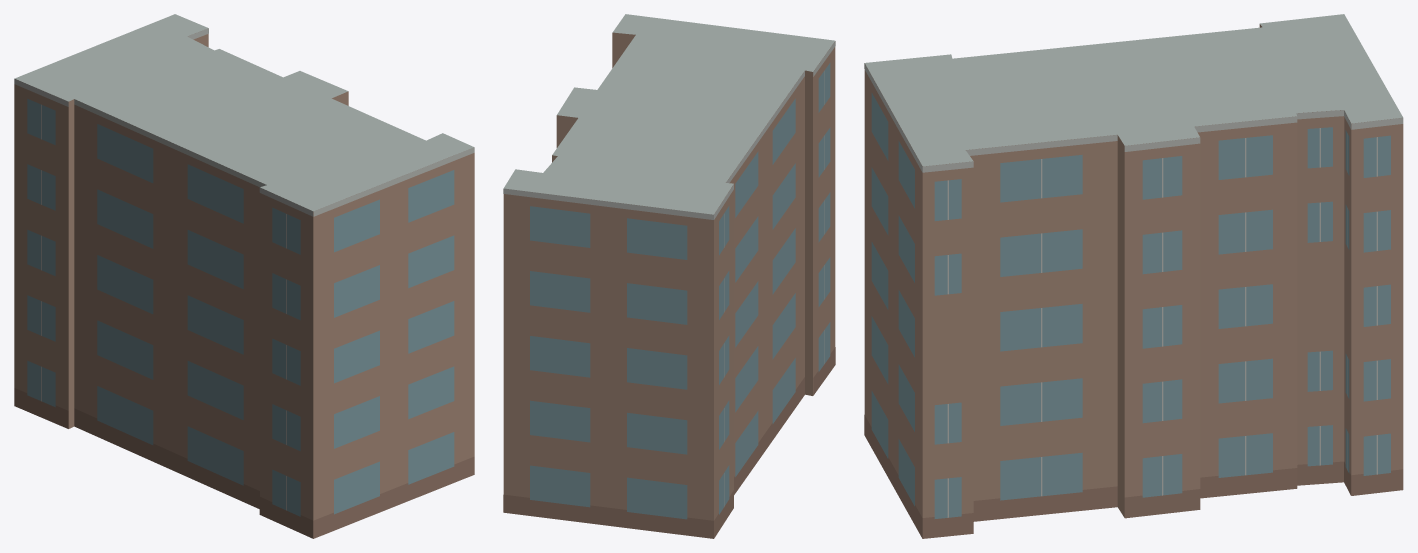
Rendered from survey-upis-32927047.glb.
3 views of the same model, side by side, from view 1: azimuth 30°, elevation 25°; view 2: azimuth 150°, elevation 25°; view 3: azimuth 270°, elevation 25° (orthographic). The views are drawn at different scales.
Visible parts, largest first — view 1: survey-upis-32927047.tmp; view 2: survey-upis-32927047.tmp; view 3: survey-upis-32927047.tmp.
Part boxes in pixels (bbox=[...]): survey-upis-32927047.tmp: bbox=[14, 14, 474, 538]; survey-upis-32927047.tmp: bbox=[503, 14, 835, 538]; survey-upis-32927047.tmp: bbox=[864, 14, 1403, 538].
Bounding box in the file's own units: 12.74 × 14.5 × 19.02.
